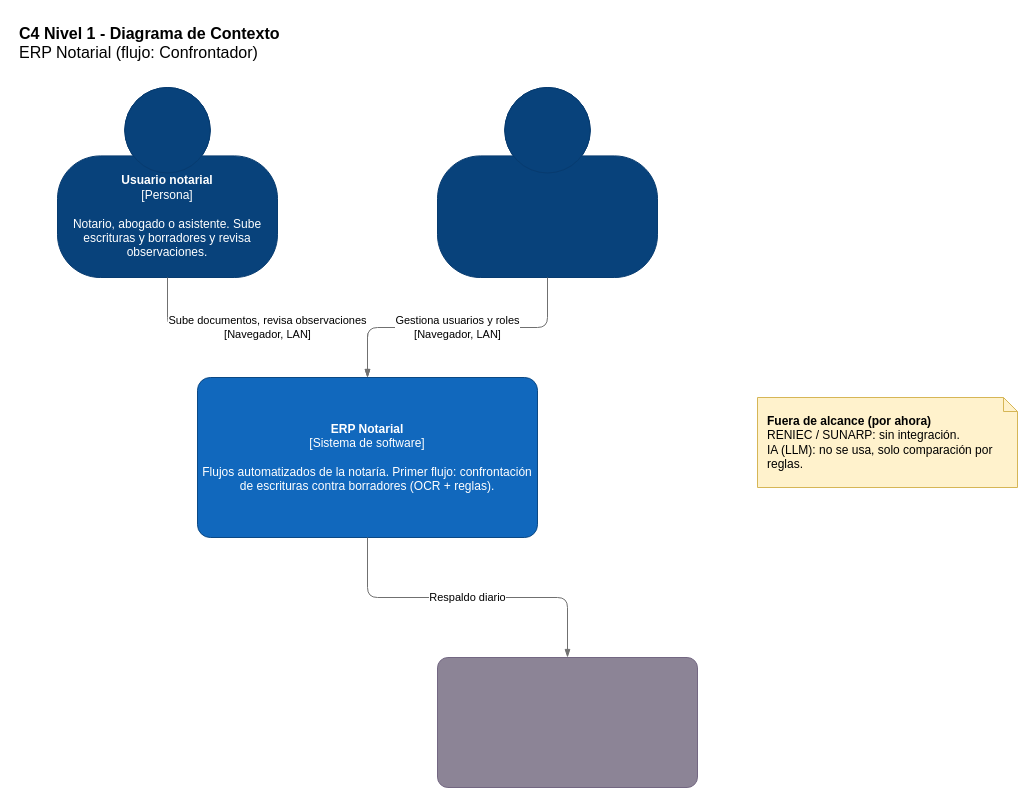
This 1035x805 diagram has some shape labels left out. The centre of each missing label's shape, as x and y in pixels:
Administrador [Persona] Gestiona usuarios, roles y respaldos.: [547,182]
NAS / Disco externo [Sistema externo] Destino de respaldos diarios.: [567,722]
